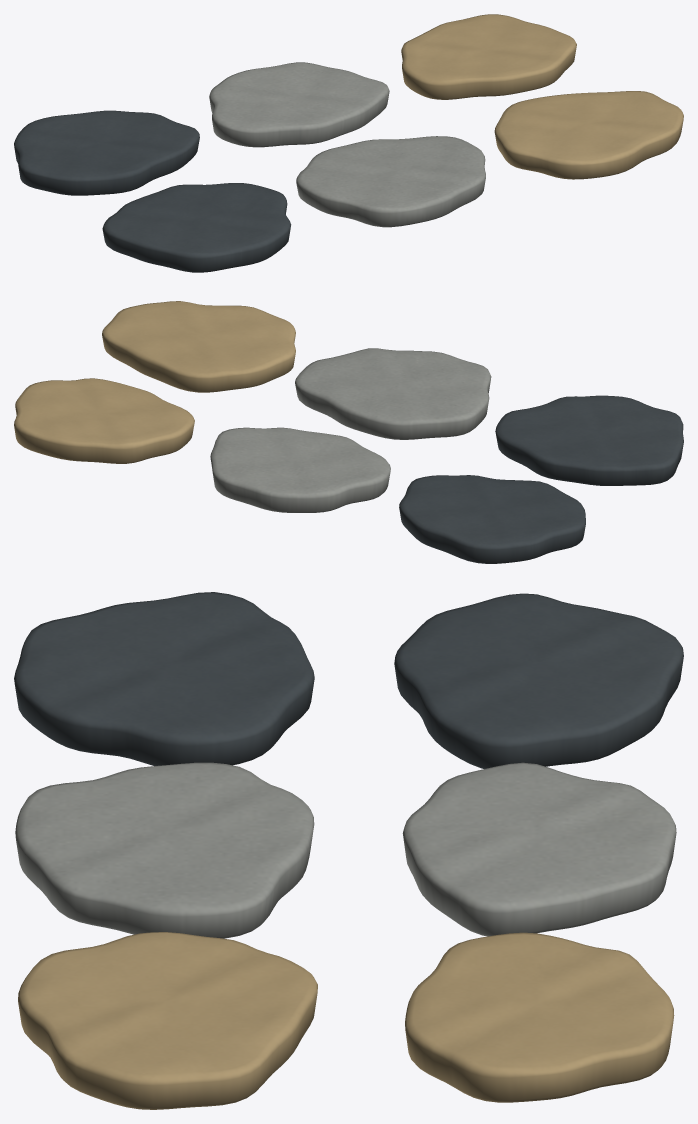
The model's file is garden-stepping-stones-set.fbx.
The picture shows the model from 3 angles, top to bottom: view 1: azimuth 30°, elevation 25°; view 2: azimuth 150°, elevation 25°; view 3: azimuth 270°, elevation 25°; orthographic projection. The views are drawn at different scales.
Visible parts, largest first — view 1: Weathered finite stepping stone 2, Weathered finite stepping stone 1, Weathered finite stepping stone 3, Weathered finite stepping stone 4, Weathered finite stepping stone 5, Weathered finite stepping stone 6; view 2: Weathered finite stepping stone 2, Weathered finite stepping stone 3, Weathered finite stepping stone 1, Weathered finite stepping stone 4, Weathered finite stepping stone 5, Weathered finite stepping stone 6; view 3: Weathered finite stepping stone 2, Weathered finite stepping stone 3, Weathered finite stepping stone 1, Weathered finite stepping stone 4, Weathered finite stepping stone 5, Weathered finite stepping stone 6.
Part boxes in pixels (box(x1,y1,x2,y2)): Weathered finite stepping stone 2: box(296, 136, 485, 227); Weathered finite stepping stone 1: box(102, 183, 291, 272); Weathered finite stepping stone 3: box(494, 91, 683, 179); Weathered finite stepping stone 4: box(14, 110, 199, 195); Weathered finite stepping stone 5: box(209, 62, 389, 147); Weathered finite stepping stone 6: box(401, 14, 576, 99); Weathered finite stepping stone 2: box(295, 348, 491, 439); Weathered finite stepping stone 3: box(102, 301, 295, 392); Weathered finite stepping stone 1: box(495, 395, 683, 485); Weathered finite stepping stone 4: box(399, 475, 585, 563); Weathered finite stepping stone 5: box(210, 427, 390, 512); Weathered finite stepping stone 6: box(14, 378, 194, 463); Weathered finite stepping stone 2: box(15, 762, 314, 938); Weathered finite stepping stone 3: box(18, 932, 317, 1109); Weathered finite stepping stone 1: box(14, 592, 314, 765); Weathered finite stepping stone 4: box(394, 593, 683, 768); Weathered finite stepping stone 5: box(402, 762, 676, 936); Weathered finite stepping stone 6: box(405, 932, 674, 1102).
Size of the model in its own units: 135 by 4.64 by 78.03.
Materials: 3 (3 with a texture image).
